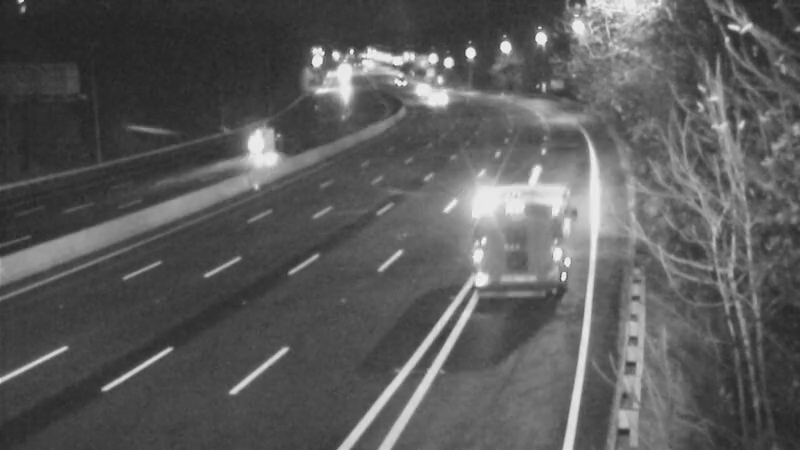vehicle: (511, 162, 591, 242), (373, 54, 423, 104), (391, 61, 441, 111), (408, 74, 458, 124), (230, 123, 280, 173)
